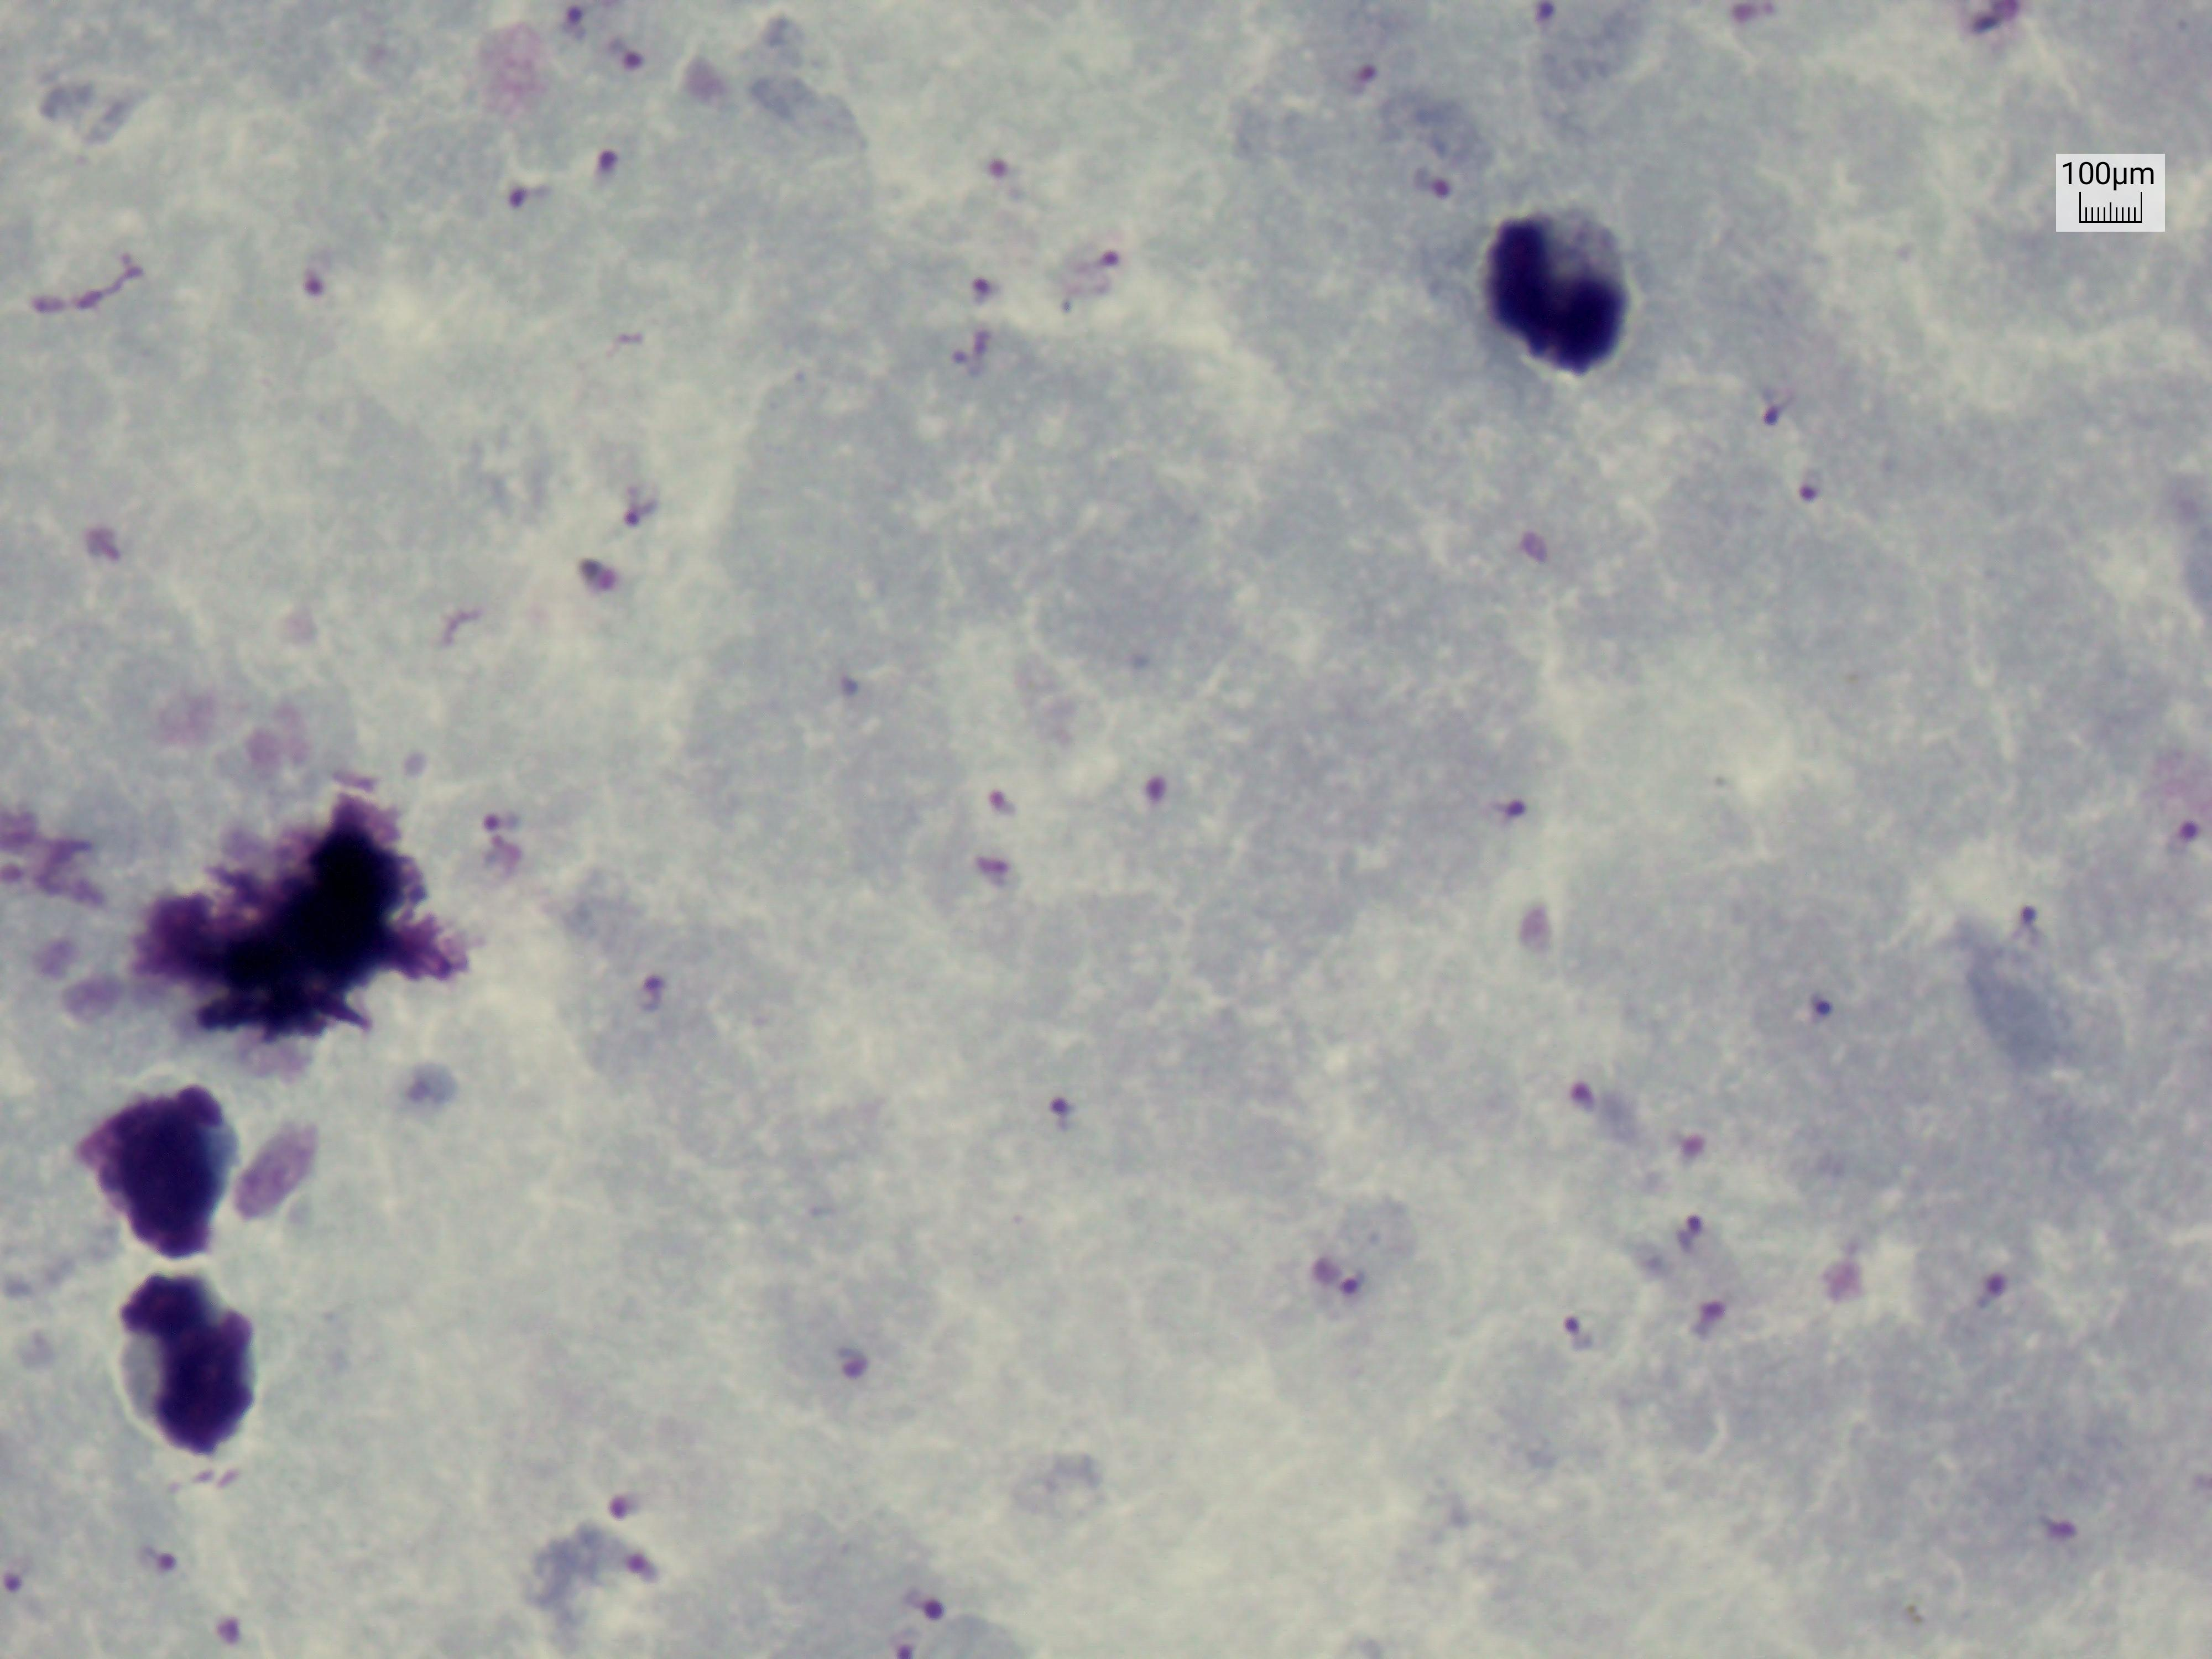p.falciparum: (1658, 1187, 1743, 1370), (946, 758, 1054, 896), (1747, 375, 1844, 509), (801, 1337, 925, 1412), (1299, 1239, 1390, 1340), (941, 260, 1007, 390), (608, 460, 679, 559), (1050, 227, 1132, 312), (1017, 1084, 1097, 1169), (1482, 763, 1550, 863), (550, 547, 644, 617), (1792, 969, 1878, 1044), (1379, 145, 1477, 209), (573, 136, 644, 214), (495, 145, 554, 239), (2001, 880, 2059, 976), (291, 244, 352, 333), (124, 1521, 204, 1586), (1505, 514, 1575, 587), (631, 957, 681, 1044), (1972, 1248, 2024, 1331), (1543, 1295, 1601, 1366)
